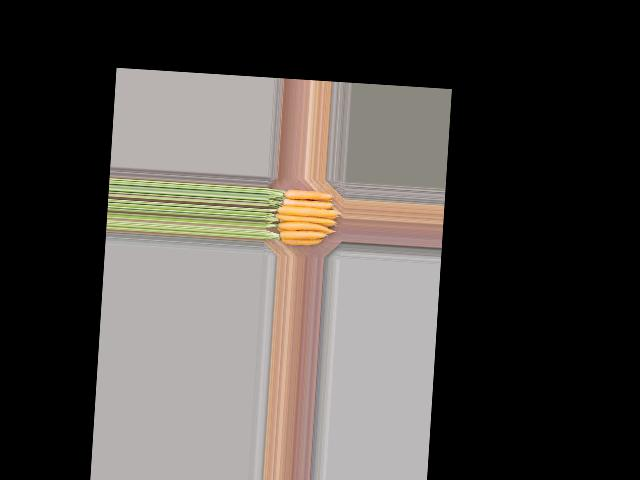carrot: (279, 235, 328, 250)
